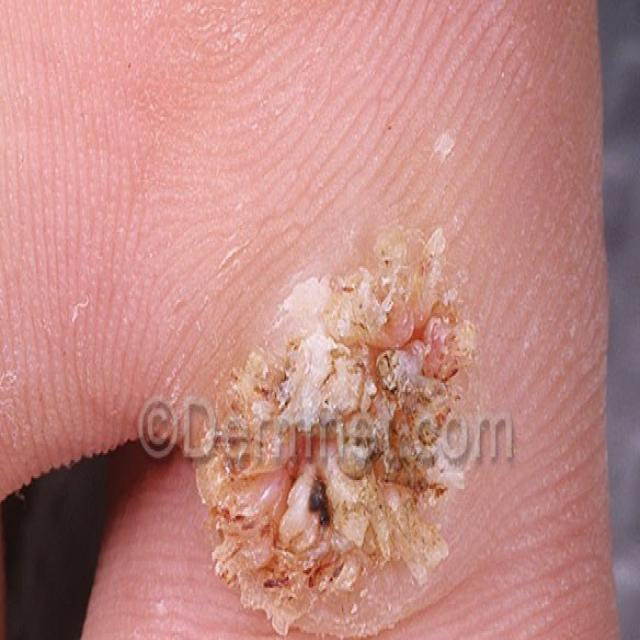Warts: (193, 207, 486, 630)
